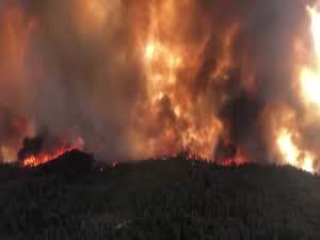fire: (12, 136, 84, 170)
smoke: (46, 21, 167, 160), (210, 7, 310, 169)
